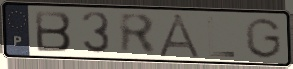3: (80, 10, 112, 56)
A: (155, 12, 205, 60)
B: (32, 9, 74, 53)
G: (243, 16, 284, 61)
L: (205, 15, 238, 59)
R: (117, 11, 160, 57)
